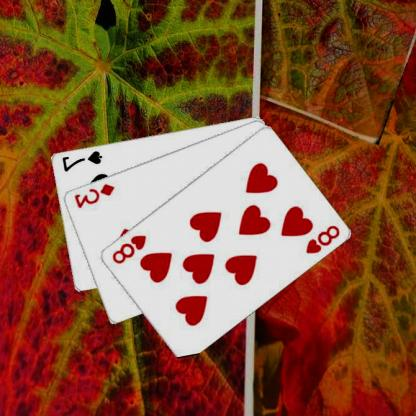3D: (74, 181, 118, 209)
7S: (61, 148, 105, 172)
8H: (304, 222, 343, 255), (111, 232, 149, 265)
